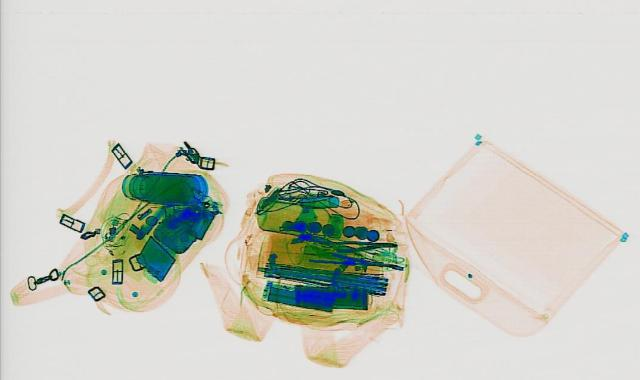Pliers: (332, 236, 396, 251)
